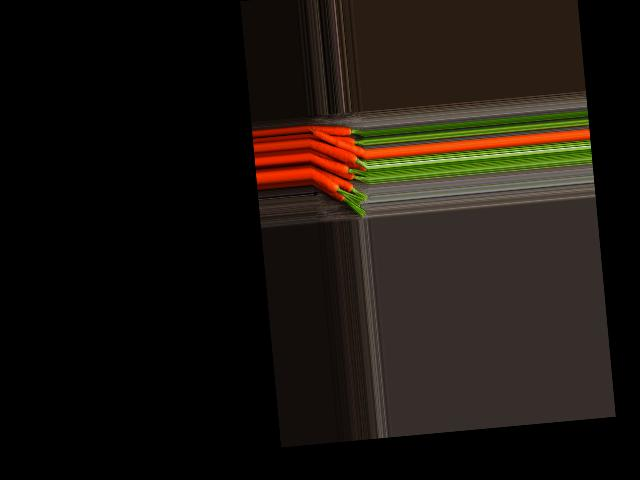carrot: (312, 167, 362, 195)
